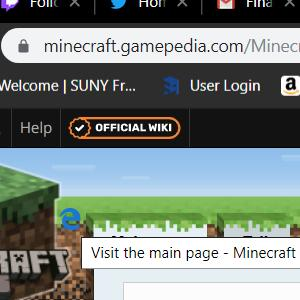edge: (59, 207, 81, 231)
